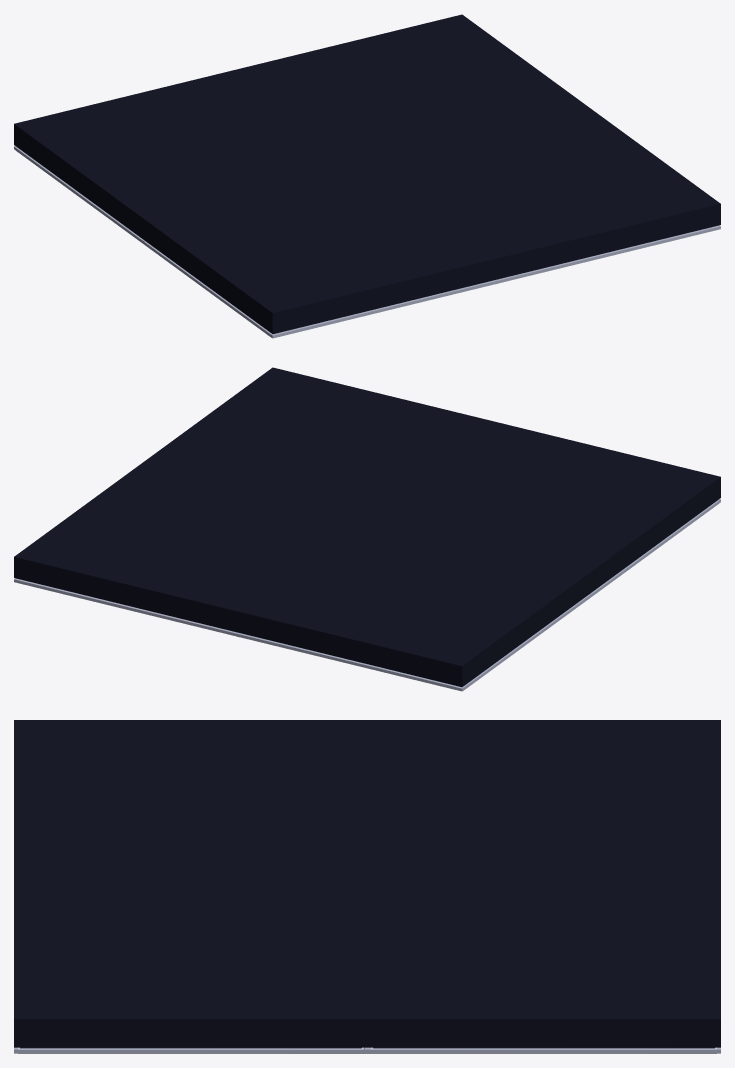
The model's file is ceiling_light.glb.
3 views of the same model, one above another, from view 1: azimuth 30°, elevation 25°; view 2: azimuth 150°, elevation 25°; view 3: azimuth 270°, elevation 25° (orthographic). The views are drawn at different scales.
Visible parts, largest first — view 1: Body; view 2: Body; view 3: Body.
Part boxes in pixels (bbox=[...]): Body: bbox=[14, 14, 720, 338]; Body: bbox=[14, 367, 720, 691]; Body: bbox=[14, 720, 720, 1053].
Bounding box in the file's own units: 4 × 0.306 × 4.
